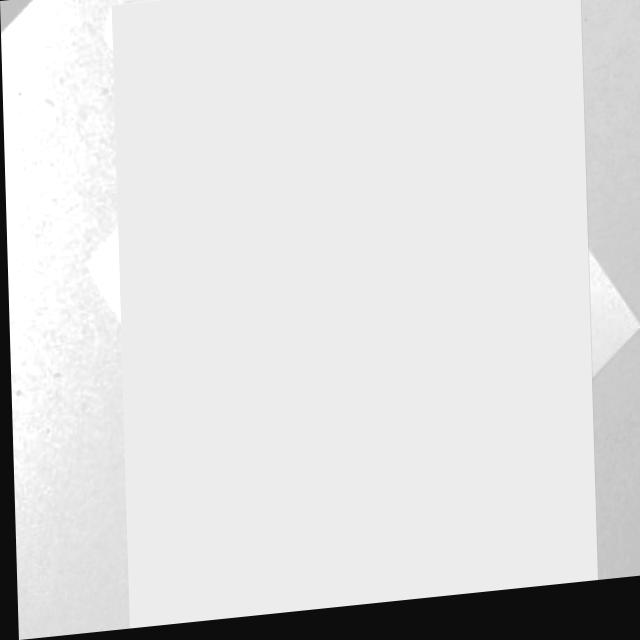qr_code: (111, 0, 594, 630)
